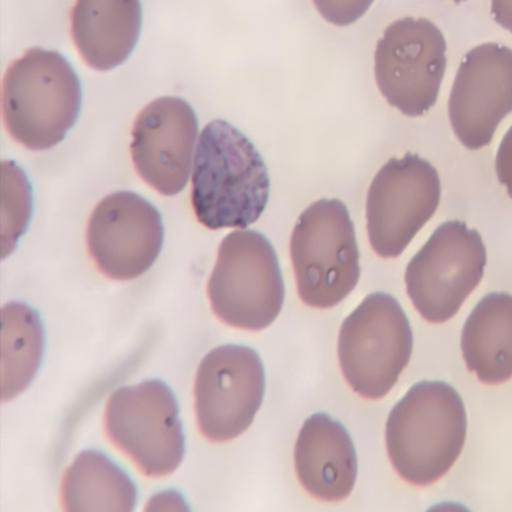Infected: (189, 117, 268, 229)
Uninfected: (0, 46, 81, 152), (387, 379, 466, 484), (407, 220, 485, 323), (103, 377, 182, 477), (339, 291, 412, 398), (208, 230, 284, 331), (290, 196, 359, 307), (366, 155, 439, 257), (193, 343, 264, 443), (376, 15, 445, 116), (129, 97, 199, 195), (448, 41, 512, 148), (88, 190, 163, 279), (292, 410, 359, 499)
